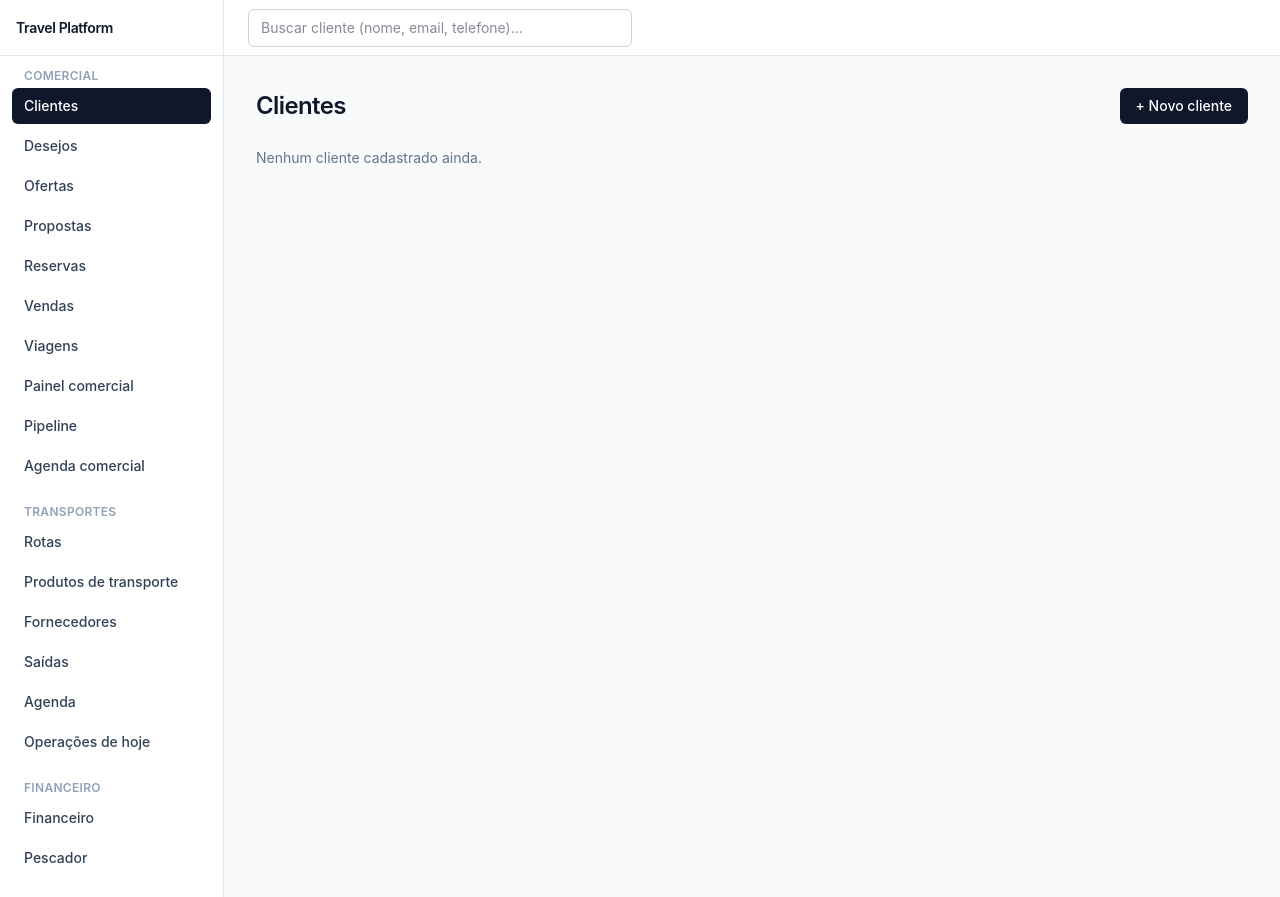
Scenario: App › navigates to /customers/new when "+ Novo cliente" is clicked
Expected: the heading "Clientes" is shown, [256,90,346,122]
Step 1. Click the button "+ Novo cliente" → (1184, 106), box [1120,88,1248,124]
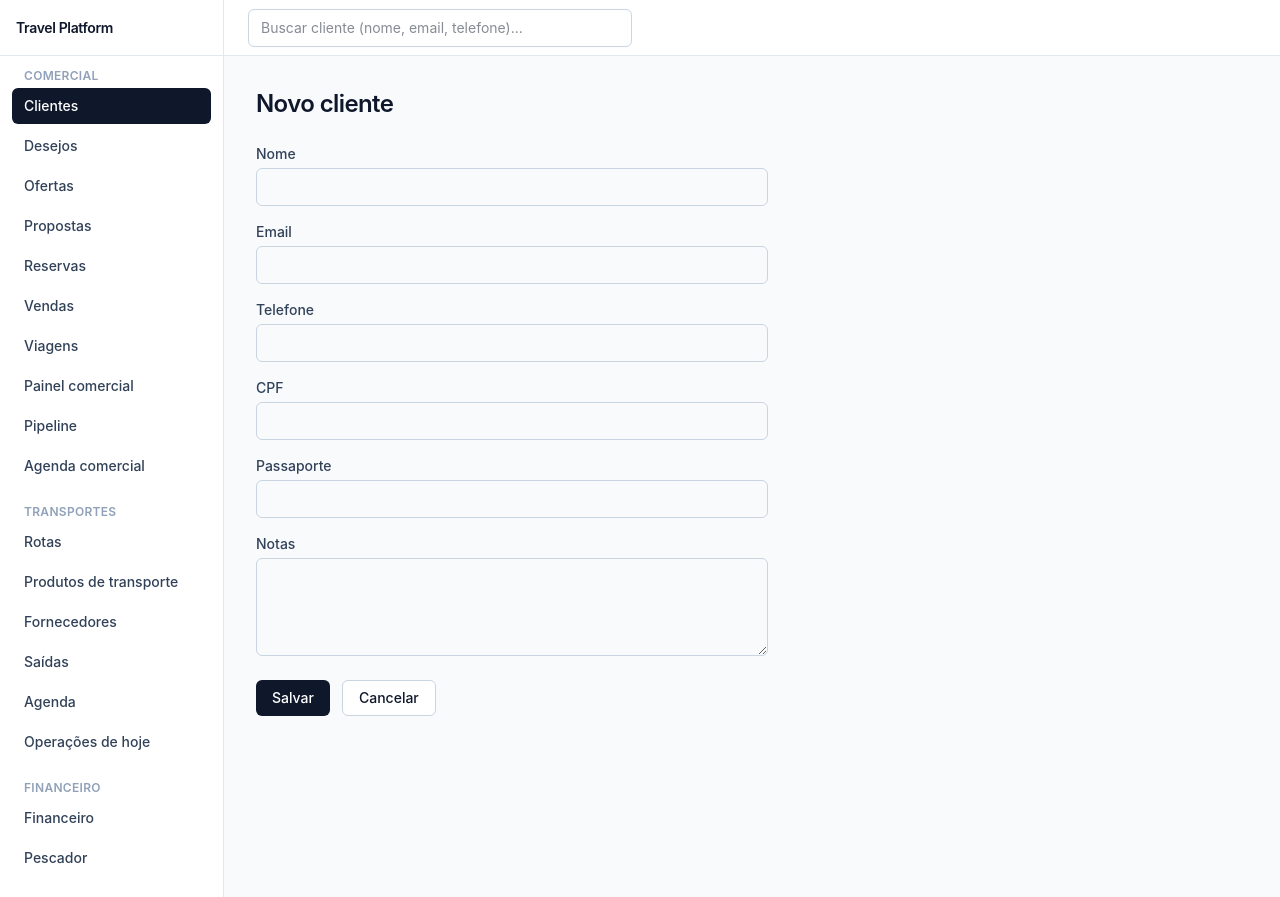
Expected: the heading "Novo cliente" is shown, [256,89,393,118]
